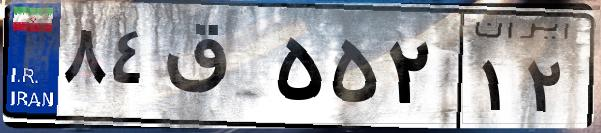1: (475, 38, 525, 113)
2: (385, 28, 445, 110), (525, 38, 570, 115)
4: (110, 28, 158, 98)
5: (270, 28, 330, 110), (330, 28, 385, 110)
8: (57, 26, 110, 100)
ق: (158, 20, 270, 120)
